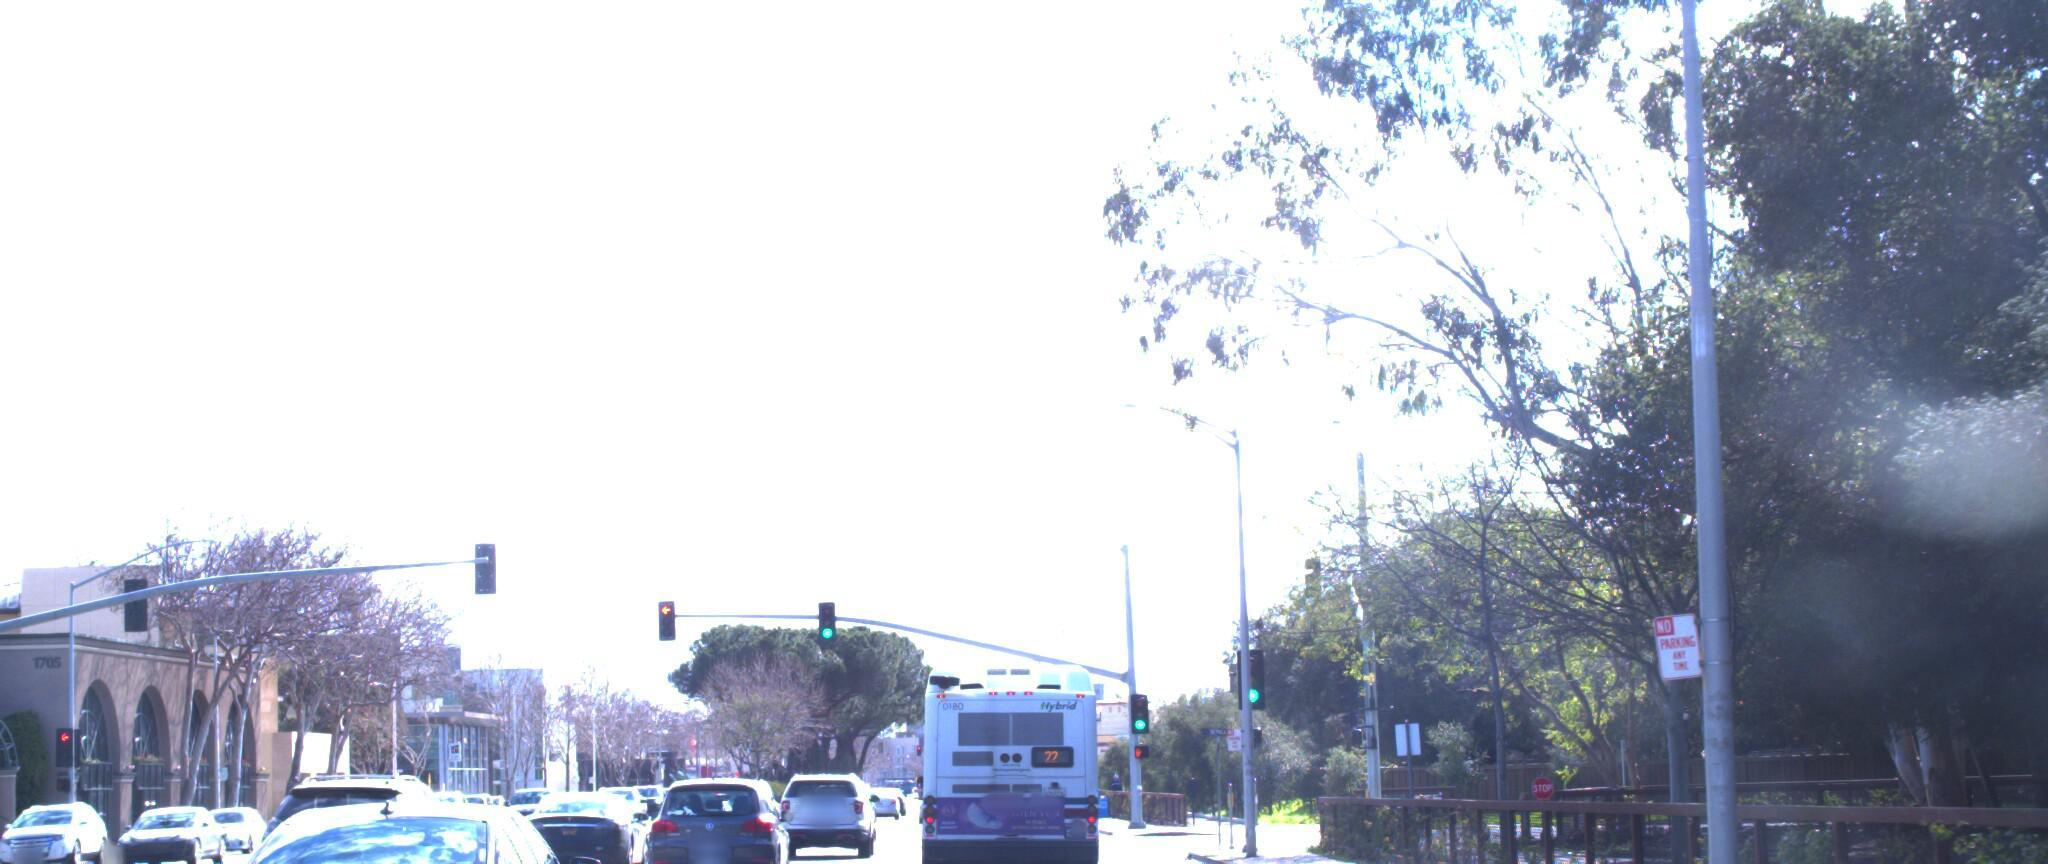bus: (913, 653, 1118, 864)
car: (146, 801, 628, 864), (641, 778, 792, 864), (519, 792, 650, 864), (778, 774, 879, 861), (0, 790, 108, 864)
